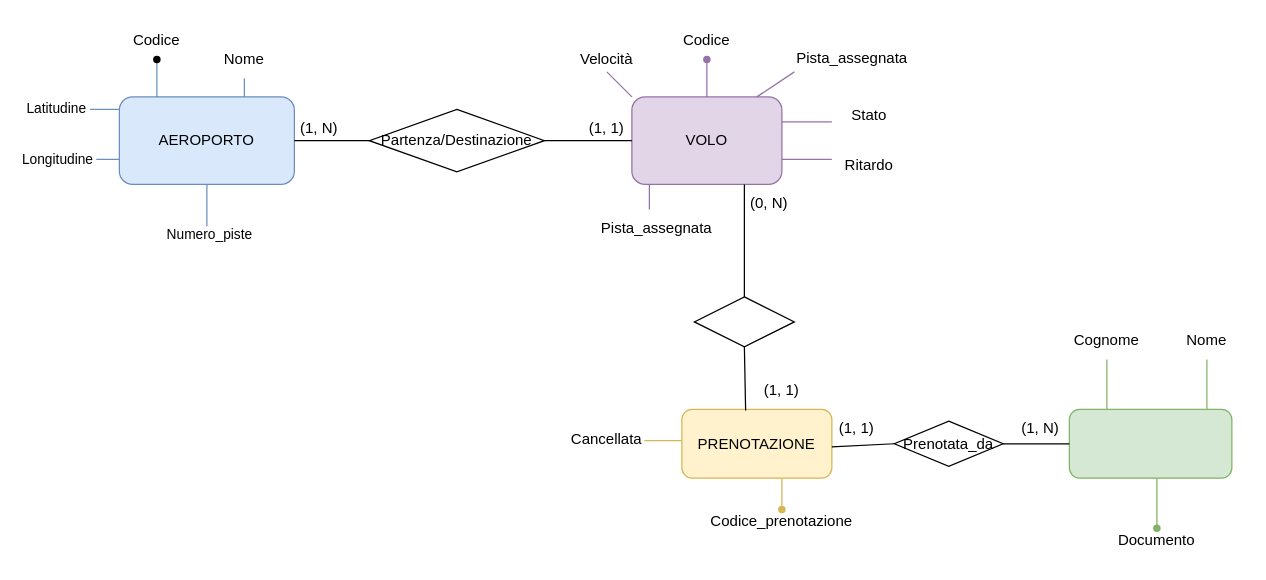
This 1266x580 diagram has some shape labels left out. Here are the shapes that lost their labels. From the top down, the box of each, then its label:
(693, 296, 794, 347): Prenota
(1068, 408, 1232, 478): PASSEGGIERO
